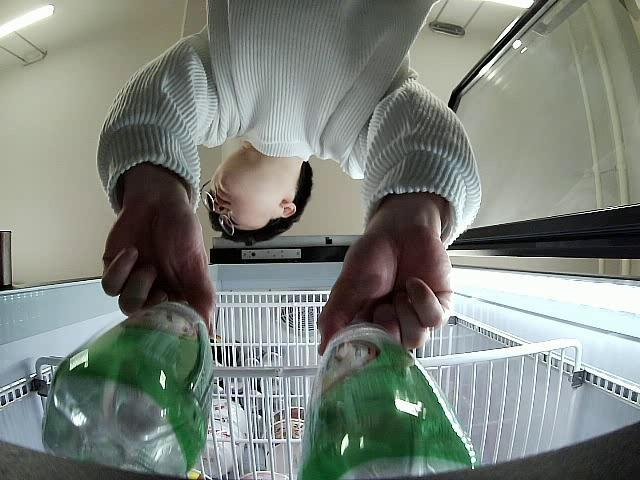18_trevi: (42, 300, 215, 480), (298, 316, 472, 480)
